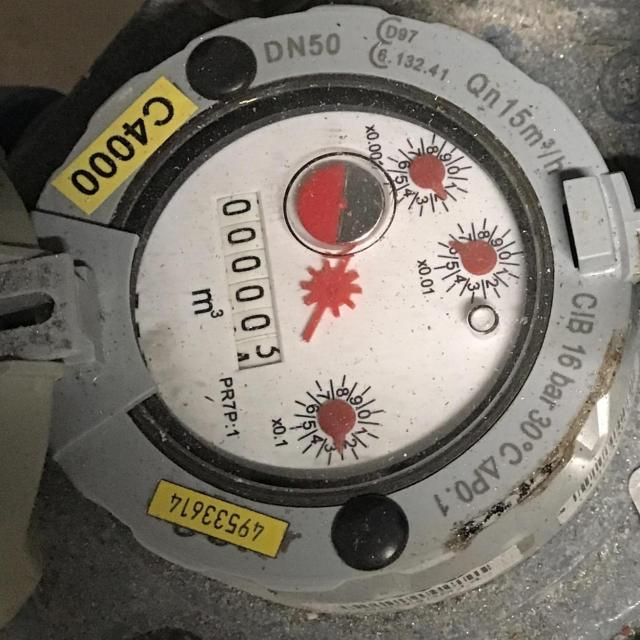gaz_meter: (118, 100, 532, 482)
indication: (211, 188, 285, 370)
